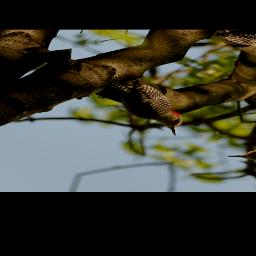Woodpecker: (77, 73, 216, 136)
